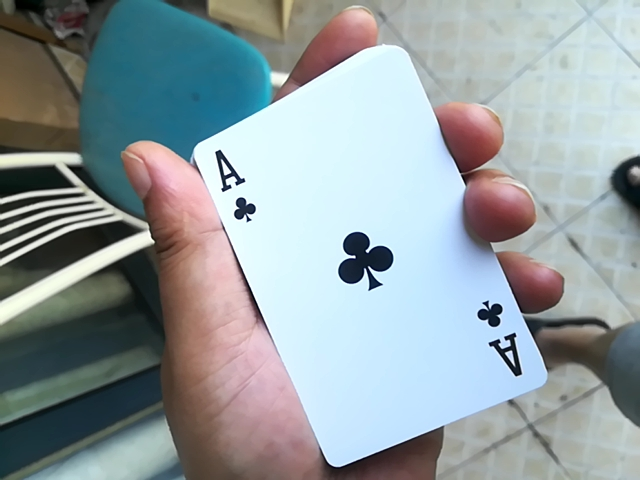mh a: (176, 35, 538, 472)
